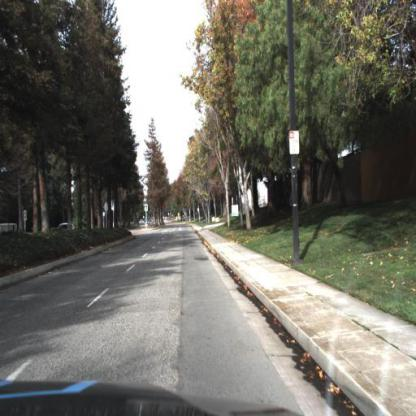car: (55, 222, 75, 232)
